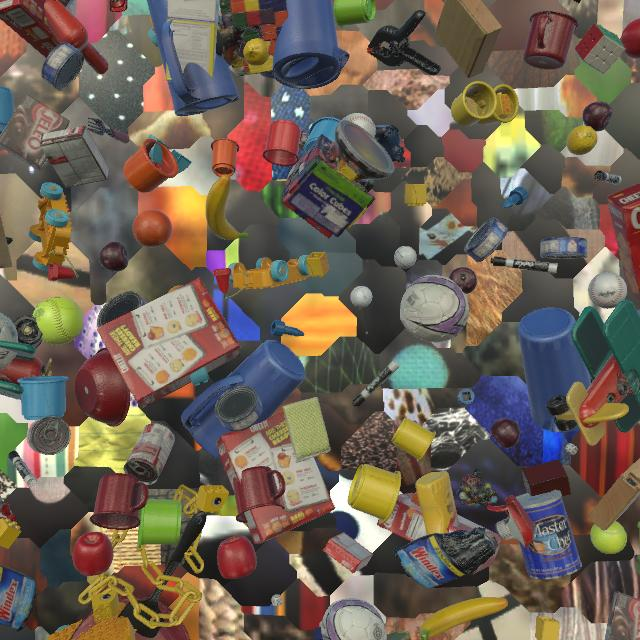ycb_002_master_chef_can: (515, 490, 582, 580), (97, 291, 147, 327)
ycb_003_cracker_box: (97, 277, 241, 409), (216, 412, 335, 544), (377, 493, 502, 574), (0, 0, 77, 58), (607, 183, 640, 301)
ycb_004_sugar_box: (165, 0, 219, 81)
ycb_005_tomato_soup_can: (124, 423, 175, 485), (26, 416, 71, 455)
ycb_006_mustard_bottle: (415, 471, 459, 535)
ycb_007_tuna_fish_can: (215, 386, 263, 431), (41, 42, 84, 91), (464, 217, 508, 263), (540, 237, 587, 259)
ycb_008_pudding_box: (0, 94, 70, 171), (40, 125, 110, 188), (605, 591, 640, 640), (59, 0, 74, 8)
ycb_009_gelatin_box: (323, 532, 373, 573)
ycb_010_potted_meat_can: (387, 631, 411, 640)
ycb_011_banana: (420, 597, 508, 640), (205, 174, 249, 240)
ycb_013_apple: (73, 532, 114, 576), (217, 535, 257, 579), (621, 18, 640, 59)
ycb_014_lemon: (566, 126, 598, 155), (243, 39, 270, 66)
ycb_015_peach: (168, 285, 181, 293)
ycb_017_orange: (132, 210, 172, 247)
ycb_018_plum: (582, 101, 613, 131), (490, 418, 520, 448), (99, 242, 128, 272), (449, 267, 477, 294)
